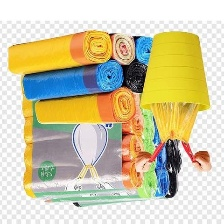plastic_bag: (5, 27, 110, 80), (15, 106, 145, 146), (21, 130, 144, 172), (19, 58, 126, 105), (20, 158, 141, 198), (38, 167, 160, 205), (71, 163, 173, 208), (32, 89, 134, 129), (147, 98, 203, 144), (103, 30, 137, 70), (122, 59, 153, 96), (133, 140, 161, 173), (134, 32, 158, 67), (160, 142, 185, 175), (159, 169, 182, 204), (134, 111, 154, 144)
